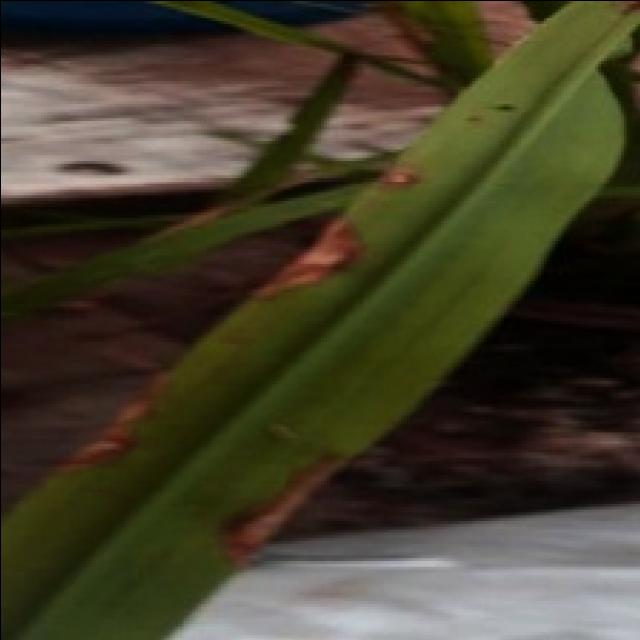Unhealthy: (216, 453, 352, 560), (235, 213, 361, 309), (470, 0, 539, 62), (136, 203, 234, 242), (374, 0, 440, 55), (115, 372, 173, 421), (68, 426, 133, 464), (332, 55, 359, 83), (388, 169, 420, 186), (613, 0, 640, 18), (628, 80, 640, 118), (488, 102, 520, 114), (628, 53, 640, 75)
